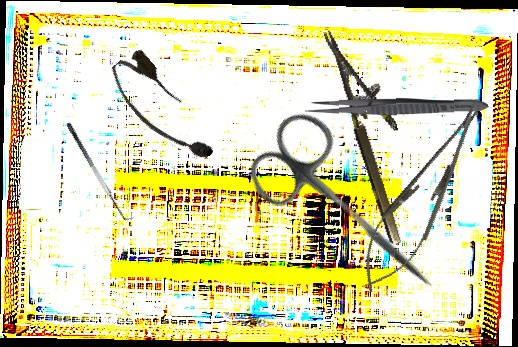Cannula: (103, 45, 221, 176)
Dressing Forceps: (304, 95, 489, 119)
Iris Scissors: (236, 101, 466, 320)
Needle Holder: (345, 88, 503, 303), (323, 18, 430, 247)
Spatula Surgical: (65, 117, 134, 226)
